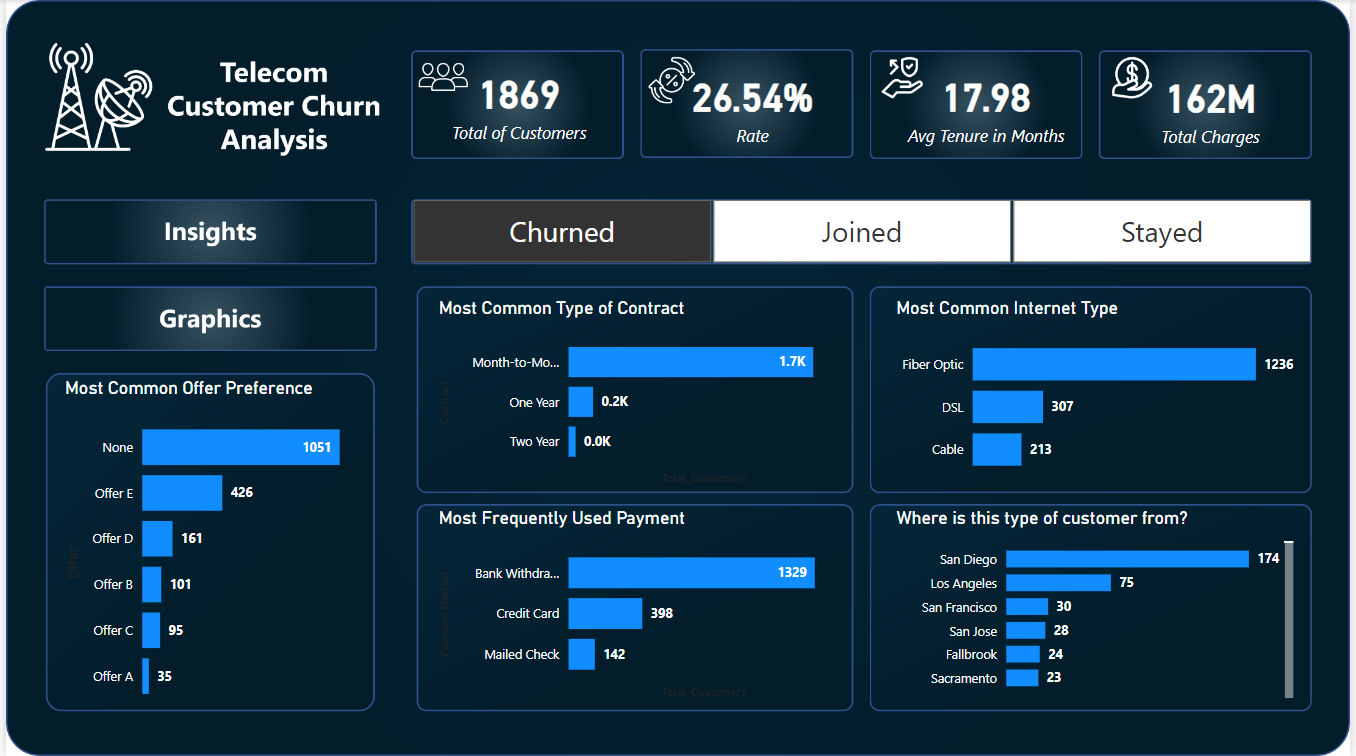

What the dashboard file says about the page in this screenshot:
{"tool":"powerbi","page":{"name":"Page 2","canvas":[1280,720],"ordinal":1},"visuals":[{"type":"clusteredBarChart","title":"Most Common Offer Preference","fields":{"Category":["telecom_customer_churn.Offer"],"Y":["telecom_customer_churn.Total_Customers"]},"box":[51.7,360,300,325],"z":0},{"type":"clusteredBarChart","title":"Most Common Type of Contract","fields":{"Y":["telecom_customer_churn.Total_Customers"],"Category":["telecom_customer_churn.Contract"]},"box":[406.7,283.3,391.7,183.3],"z":1000},{"type":"slicer","fields":{"Values":["telecom_customer_churn.Customer Status"]},"box":[361.7,183.3,905,73.3],"z":2000},{"type":"clusteredBarChart","title":"Most Common Internet Type","fields":{"Y":["telecom_customer_churn.Total_Customers"],"Category":["telecom_customer_churn.Internet Type"]},"box":[843.3,283.3,388.3,183.3],"z":3000},{"type":"card","fields":{"Values":["telecom_customer_churn.Total_Customers"]},"box":[406,50.7,165.7,94],"z":4000},{"type":"card","fields":{"Values":["Sum(telecom_customer_churn.Total Charges)"]},"box":[1063.3,48.3,168.3,105],"z":5000},{"type":"card","fields":{"Values":["telecom_customer_churn.Percentage_Selected_Status"]},"box":[611.9,55.2,198.5,92.5],"z":6000},{"type":"card","fields":{"Values":["telecom_customer_churn.Avg_Tenure_Months"]},"box":[843.3,51.7,181.7,98.3],"z":7000},{"type":"clusteredBarChart","title":"Most Frequently Used Payment","fields":{"Y":["telecom_customer_churn.Total_Customers"],"Category":["telecom_customer_churn.Payment Method"]},"box":[406.7,483.3,391.7,186.7],"z":8000},{"type":"clusteredBarChart","title":"Where is this type of customer from?","fields":{"Y":["telecom_customer_churn.Total_Customers"],"Category":["telecom_customer_churn.City"]},"box":[843.3,483.3,388.3,186.7],"z":9000},{"type":"actionButton","box":[33.3,183.3,318.3,73.3],"z":10000},{"type":"actionButton","box":[33.3,271.7,318.3,61.7],"z":11000}]}

Visuals, with their boxes in screenshot pixels (x1, y1, x2, y2), scaled from the page's 1280x720 canvas onto the 1356x756 screenshot:
"Most Common Offer Preference" clusteredBarChart: <bbox>55, 378, 373, 719</bbox>
"Most Common Type of Contract" clusteredBarChart: <bbox>431, 297, 846, 490</bbox>
slicer - telecom_customer_churn.Customer Status: <bbox>383, 192, 1342, 269</bbox>
"Most Common Internet Type" clusteredBarChart: <bbox>893, 297, 1305, 490</bbox>
card - telecom_customer_churn.Total_Customers: <bbox>430, 53, 606, 152</bbox>
card - Sum(telecom_customer_churn.Total Charges): <bbox>1126, 51, 1305, 161</bbox>
card - telecom_customer_churn.Percentage_Selected_Status: <bbox>648, 58, 859, 155</bbox>
card - telecom_customer_churn.Avg_Tenure_Months: <bbox>893, 54, 1086, 158</bbox>
"Most Frequently Used Payment" clusteredBarChart: <bbox>431, 507, 846, 704</bbox>
"Where is this type of customer from?" clusteredBarChart: <bbox>893, 507, 1305, 704</bbox>
actionButton: <bbox>35, 192, 372, 269</bbox>
actionButton: <bbox>35, 285, 372, 350</bbox>
